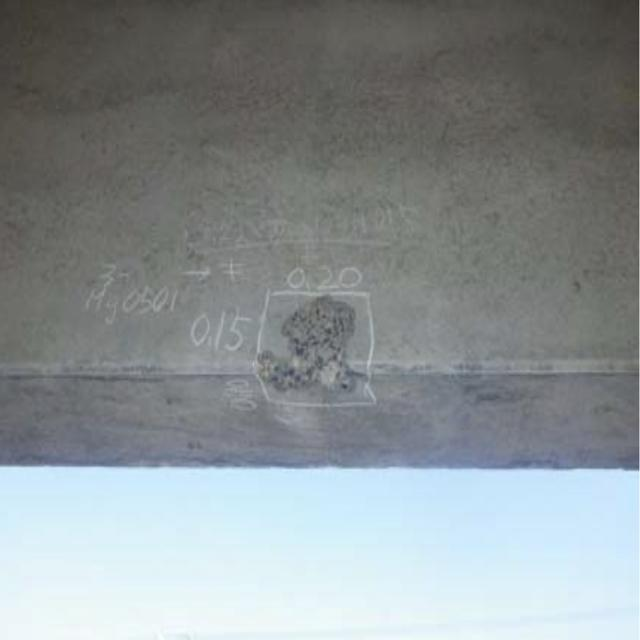spalling: (237, 280, 380, 419)
